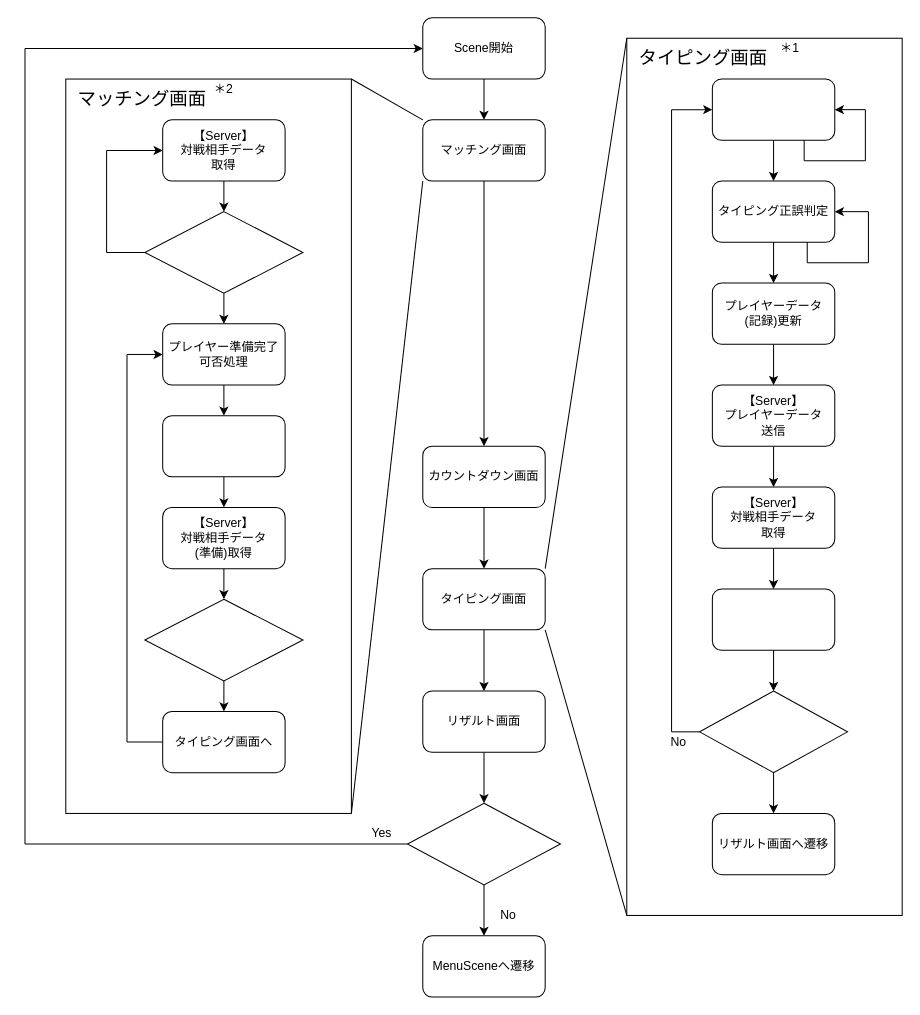
The diagram is 920 pixels wide and 1015 high, and some of its shapes have lost their labels. The shapes that lost their labels are listed below. From the top down, each one's centre as x and y in pixels, then its label:
At (773,109): "タイピング入力判定".
At (223,252): "対戦相手入室判定".
At (223,446): "【Server】 プレイヤーデータ (準備)送信".
At (223,639): "両者準備完了判定".
At (773,619): "UI更新".
At (773,731): "規定問題数 回答判定".
At (483,843): "リトライ選択".
